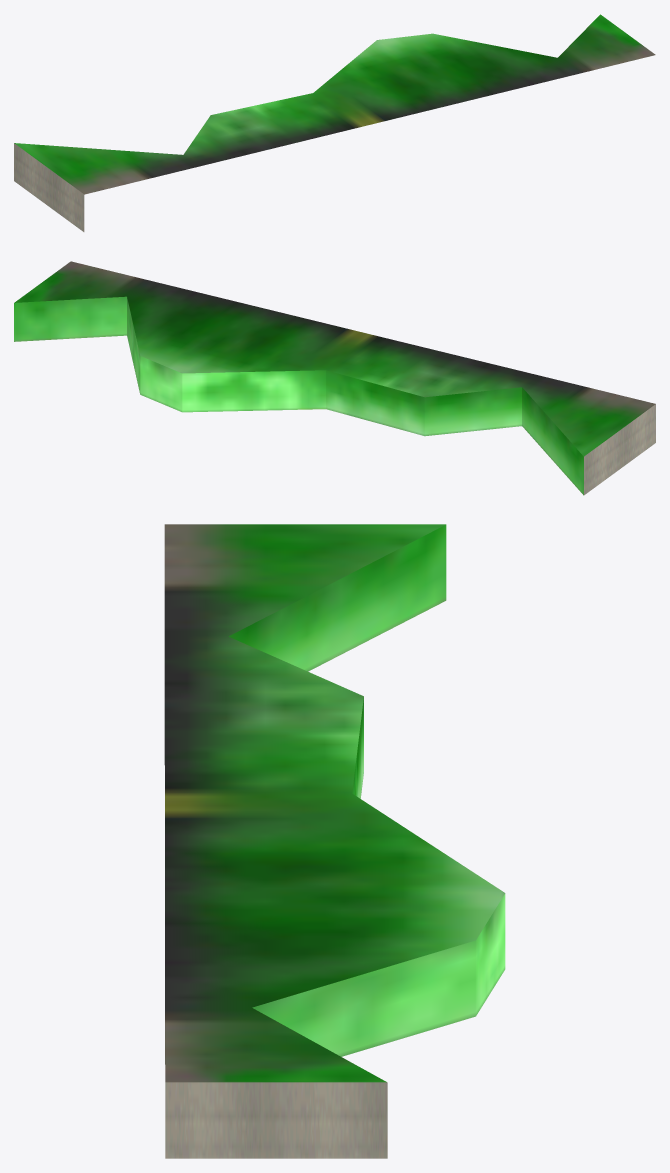
Rendered from Bridge01Lava.glb.
3 renders of one model, top to bottom at view 1: azimuth 30°, elevation 25°; view 2: azimuth 150°, elevation 25°; view 3: azimuth 270°, elevation 25°, orthographic. The views are drawn at different scales.
Visible parts, largest first — view 1: Bridge01Lava; view 2: Bridge01Lava; view 3: Bridge01Lava.
Part boxes in pixels (box(x1,y1,x2,y2)): Bridge01Lava: box(14, 14, 655, 231); Bridge01Lava: box(14, 261, 655, 495); Bridge01Lava: box(164, 524, 505, 1158).
Bounding box in the file's own units: 1589 × 101 × 410.
Materials: 3 (3 with a texture image).
